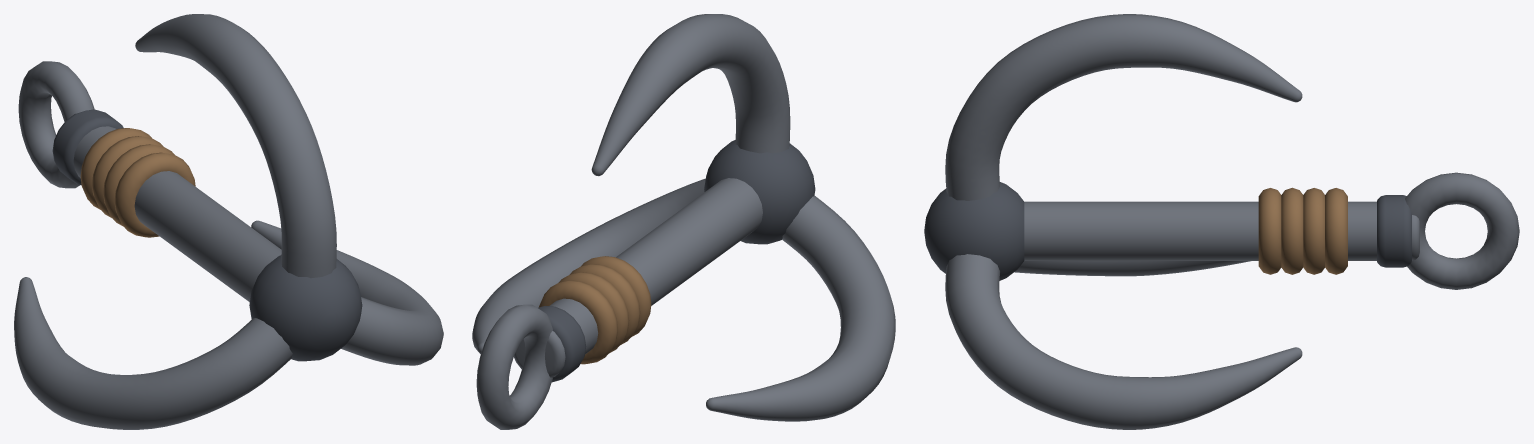
File: grap_rope.glb
3 views of the same model, side by side, from view 1: azimuth 30°, elevation 25°; view 2: azimuth 150°, elevation 25°; view 3: azimuth 270°, elevation 25° (orthographic). The views are drawn at different scales.
Parts seen in each view (by area): view 1: rope_body__p6d727b, rope_crown__p4b5059, rope_lash__p8b6c4c; view 2: rope_body__p6d727b, rope_crown__p4b5059, rope_lash__p8b6c4c; view 3: rope_body__p6d727b, rope_crown__p4b5059, rope_lash__p8b6c4c.
Boxes of the visible parts, x1=… form: rope_body__p6d727b: x1=14, y1=14, x2=443, y2=429; rope_crown__p4b5059: x1=52, y1=109, x2=362, y2=361; rope_lash__p8b6c4c: x1=80, y1=128, x2=195, y2=237; rope_body__p6d727b: x1=472, y1=14, x2=895, y2=429; rope_crown__p4b5059: x1=514, y1=140, x2=815, y2=382; rope_lash__p8b6c4c: x1=539, y1=256, x2=651, y2=364; rope_body__p6d727b: x1=945, y1=14, x2=1519, y2=429; rope_crown__p4b5059: x1=924, y1=182, x2=1411, y2=280; rope_lash__p8b6c4c: x1=1258, y1=187, x2=1347, y2=274.
Bounding box in the file's own units: 1.15 × 1.01 × 1.63.
